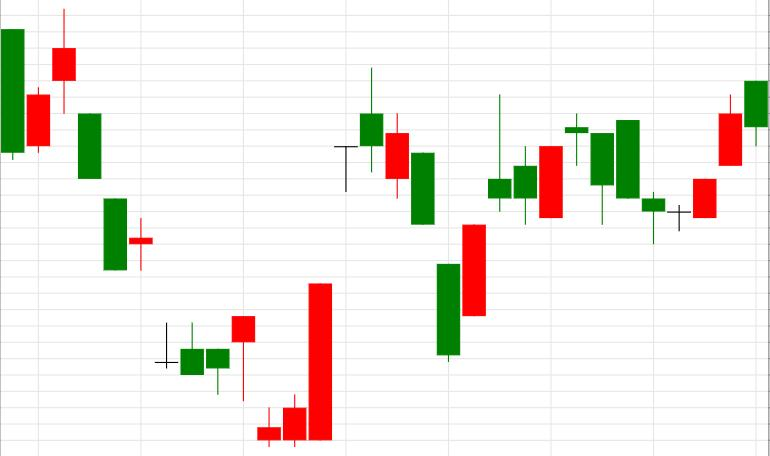evening_star_fall: (438, 95, 613, 362)
